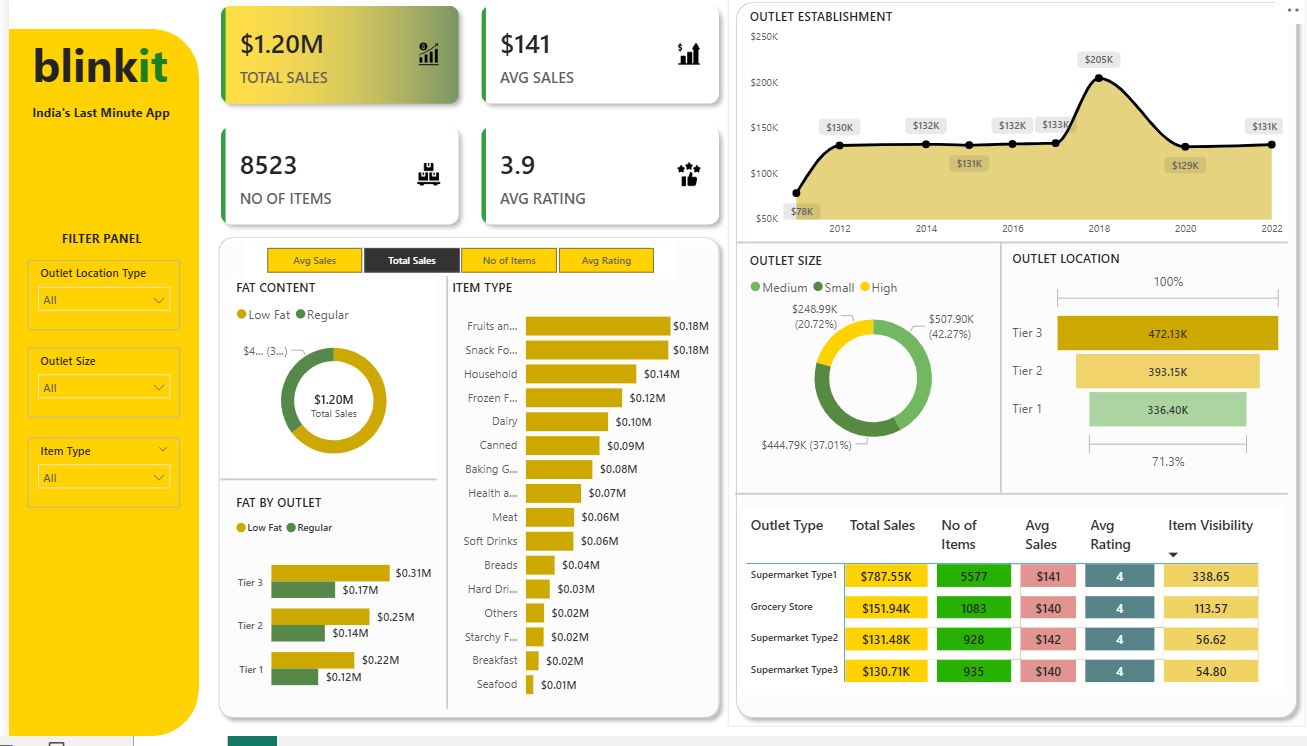

This screenshot's page, from the dashboard's own definition file:
{"tool":"powerbi","page":{"name":"Page 1","canvas":[1400,800],"ordinal":0},"visuals":[{"type":"shape","box":[0,41.6,203.8,758.7],"z":0},{"type":"textbox","box":[20.1,41.6,163.5,75.1],"z":1000},{"type":"textbox","box":[20.1,116.6,163.5,59],"z":2000},{"type":"cardVisual","fields":{"Data":["BlinkIT Grocery Data.Total Sales","BlinkIT Grocery Data.Avg Sales","BlinkIT Grocery Data.No of Items","BlinkIT Grocery Data.Avg Rating"]},"box":[210.5,0,569.7,269.4],"z":3000},{"type":"shape","box":[215.8,256,555,533.5],"z":4000},{"type":"donutChart","title":"FAT CONTENT","fields":{"Y":["BlinkIT Grocery Data.Total Sales"],"Category":["BlinkIT Grocery Data.Item Fat Content"]},"box":[238.6,309.7,219.8,214.5],"z":5000},{"type":"slicer","fields":{"Values":["Metrics.Metrics"]},"box":[250.7,269.4,465.1,40.2],"z":6000},{"type":"cardVisual","fields":{"Data":["BlinkIT Grocery Data.Total Sales"]},"box":[285.5,399.5,126,91.2],"z":7000},{"type":"clusteredBarChart","title":"FAT BY OUTLET","fields":{"Y":["BlinkIT Grocery Data.Total Sales"],"Category":["BlinkIT Grocery Data.Outlet Location Type"],"Series":["BlinkIT Grocery Data.Item Fat Content"]},"box":[238.6,540.2,219.8,230.6],"z":8000},{"type":"shape","box":[226.5,509.4,231.9,30.8],"z":9000},{"type":"shape","box":[458.4,307,22.8,463.8],"z":10000},{"type":"barChart","title":"ITEM TYPE","fields":{"Y":["BlinkIT Grocery Data.Total Sales"],"Category":["BlinkIT Grocery Data.Item Type"]},"box":[470.5,309.7,285.5,461.1],"z":11000},{"type":"shape","box":[770.8,4,619.3,785.5],"z":12000},{"type":"lineChart","title":"OUTLET ESTABLISHMENT","fields":{"Y":["BlinkIT Grocery Data.Total Sales"],"Category":["BlinkIT Grocery Data.Outlet Establishment Year"]},"box":[789.5,18.8,581.8,254.7],"z":13000},{"type":"shape","box":[780.2,256,591.2,29.5],"z":14000},{"type":"donutChart","title":"OUTLET SIZE","fields":{"Category":["BlinkIT Grocery Data.Outlet Size"],"Y":["BlinkIT Grocery Data.Total Sales"]},"box":[789.5,280.2,274.8,225.2],"z":15000},{"type":"shape","box":[1052.3,269.4,22.8,269.4],"z":16000},{"type":"funnel","title":"OUTLET LOCATION","fields":{"Y":["Sum(BlinkIT Grocery Data.Sales)"],"Category":["BlinkIT Grocery Data.Outlet Location Type"]},"box":[1071.1,278.8,300.3,242.6],"z":17000},{"type":"shape","box":[778.8,525.5,592.5,29.5],"z":18000},{"type":"pivotTable","fields":{"Rows":["BlinkIT Grocery Data.Outlet Type"],"Values":["BlinkIT Grocery Data.Total Sales","BlinkIT Grocery Data.No of Items","BlinkIT Grocery Data.Avg Sales","BlinkIT Grocery Data.Avg Rating","Sum(BlinkIT Grocery Data.Item Visibility)"]},"box":[785.5,555,581.8,194.4],"z":19000},{"type":"slicer","fields":{"Values":["BlinkIT Grocery Data.Outlet Location Type"]},"box":[20.1,289.5,163.5,75.1],"z":19001},{"type":"slicer","fields":{"Values":["BlinkIT Grocery Data.Outlet Size"]},"box":[20.1,383.4,163.5,75.1],"z":19002},{"type":"slicer","fields":{"Values":["BlinkIT Grocery Data.Item Type"]},"box":[20.1,479.9,163.5,75.1],"z":19003},{"type":"textbox","box":[33.5,252,136.7,36.2],"z":19004}]}

Visuals, with their boxes in screenshot pixels (x1, y1, x2, y2), scaled from the page's 1400x800 canvas onto the 1307x746 screenshot:
shape: select_region(0, 39, 190, 745)
textbox: select_region(19, 39, 171, 109)
textbox: select_region(19, 109, 171, 164)
cardVisual - BlinkIT Grocery Data.Total Sales x BlinkIT Grocery Data.Avg Sales: select_region(197, 0, 728, 251)
shape: select_region(201, 239, 720, 736)
"FAT CONTENT" donutChart: select_region(223, 289, 428, 489)
slicer - Metrics.Metrics: select_region(234, 251, 668, 289)
cardVisual - BlinkIT Grocery Data.Total Sales: select_region(267, 373, 384, 458)
"FAT BY OUTLET" clusteredBarChart: select_region(223, 504, 428, 719)
shape: select_region(211, 475, 428, 504)
shape: select_region(428, 286, 449, 719)
"ITEM TYPE" barChart: select_region(439, 289, 706, 719)
shape: select_region(720, 4, 1298, 736)
"OUTLET ESTABLISHMENT" lineChart: select_region(737, 18, 1280, 255)
shape: select_region(728, 239, 1280, 266)
"OUTLET SIZE" donutChart: select_region(737, 261, 994, 471)
shape: select_region(982, 251, 1004, 502)
"OUTLET LOCATION" funnel: select_region(1000, 260, 1280, 486)
shape: select_region(727, 490, 1280, 518)
pivotTable - BlinkIT Grocery Data.Outlet Type x BlinkIT Grocery Data.Total Sales: select_region(733, 518, 1276, 699)
slicer - BlinkIT Grocery Data.Outlet Location Type: select_region(19, 270, 171, 340)
slicer - BlinkIT Grocery Data.Outlet Size: select_region(19, 358, 171, 428)
slicer - BlinkIT Grocery Data.Item Type: select_region(19, 448, 171, 518)
textbox: select_region(31, 235, 159, 269)
